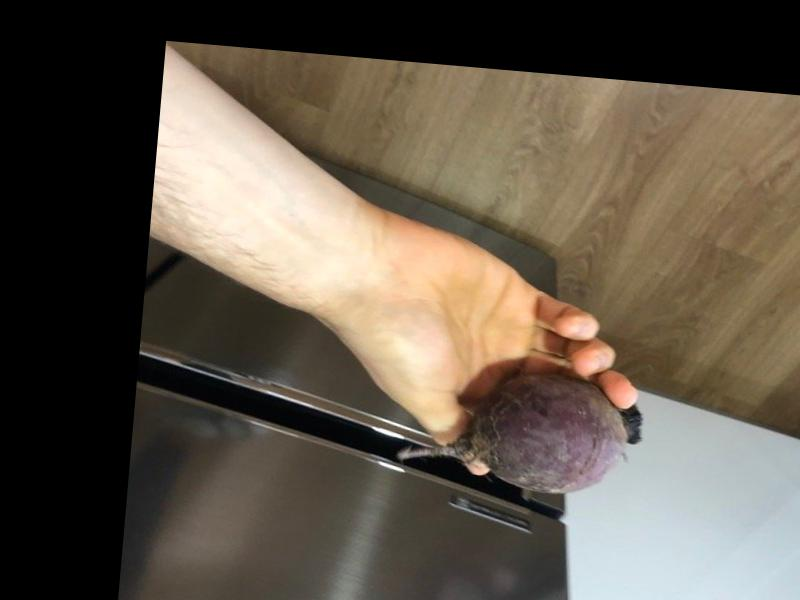Beet: (398, 365, 647, 498)
